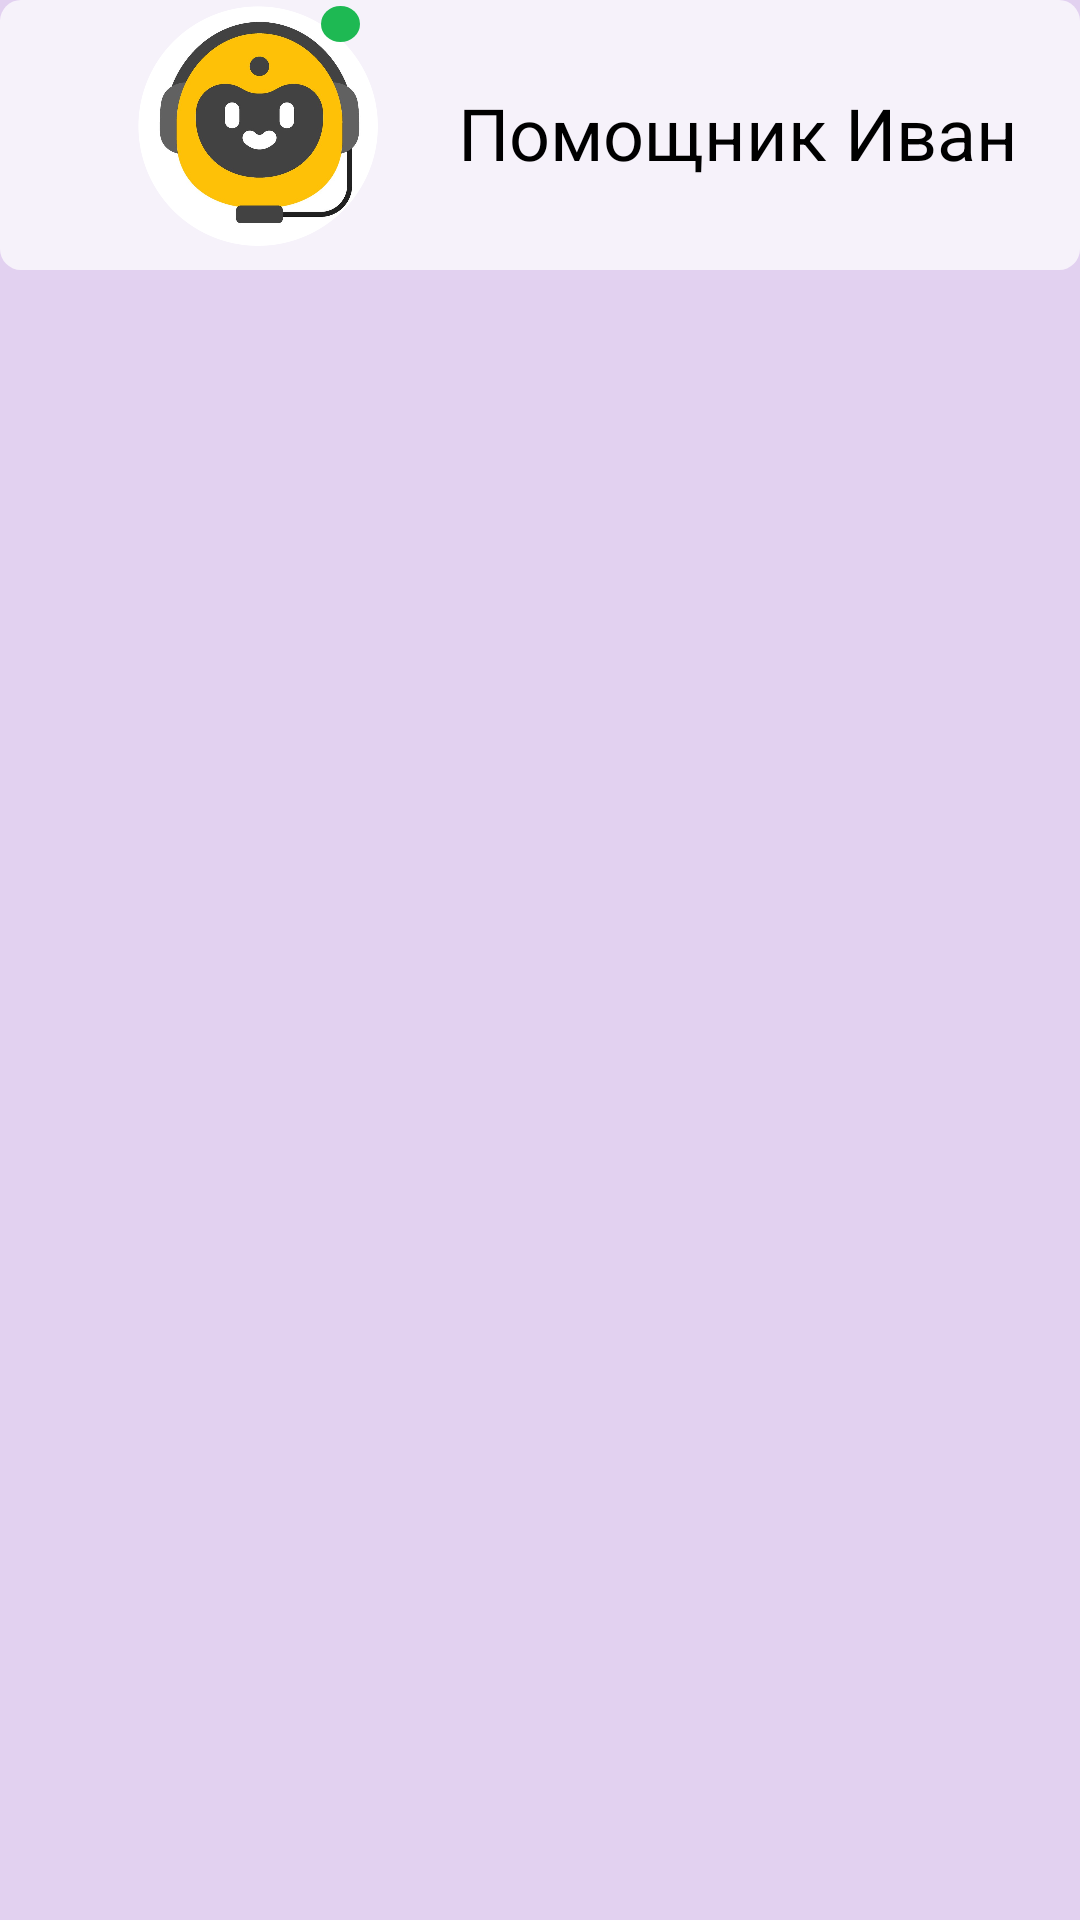

Icon click points for this 1080 × 1920 phone screenshot, format (x=x, y=y):
robots face: (x=260, y=114)
